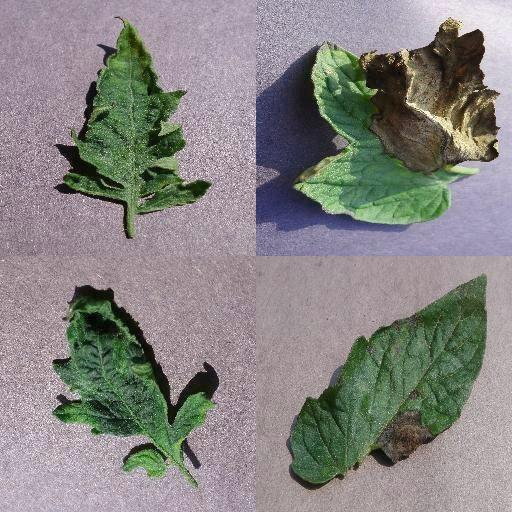Late Blight: (287, 16, 501, 226), (288, 271, 488, 485)
Mosaic Virus: (52, 293, 222, 479), (64, 15, 214, 215)
